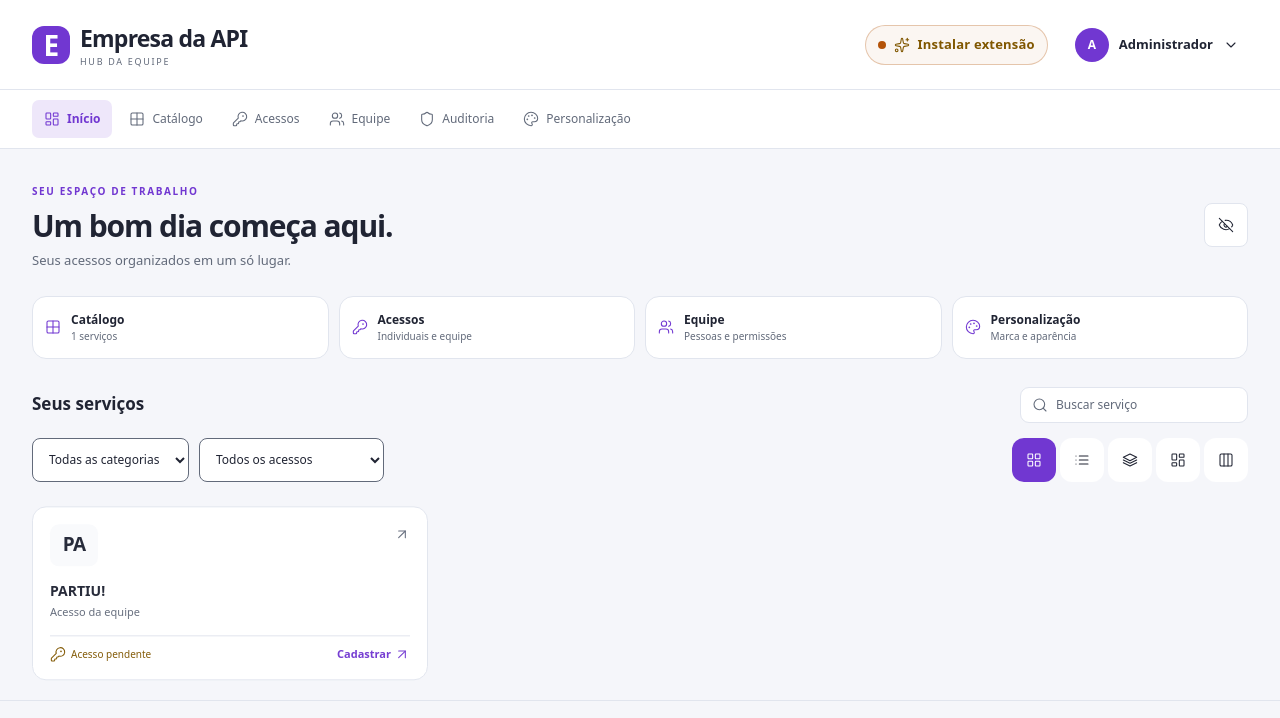
Test: Workspace interaction boundaries › keeps the individual dialog focused and restores focus after Escape
The image size is (1280, 718).
Click the button with aria-label "Cadastrar PARTIU!" at (74, 545), box [32,506,428,680]
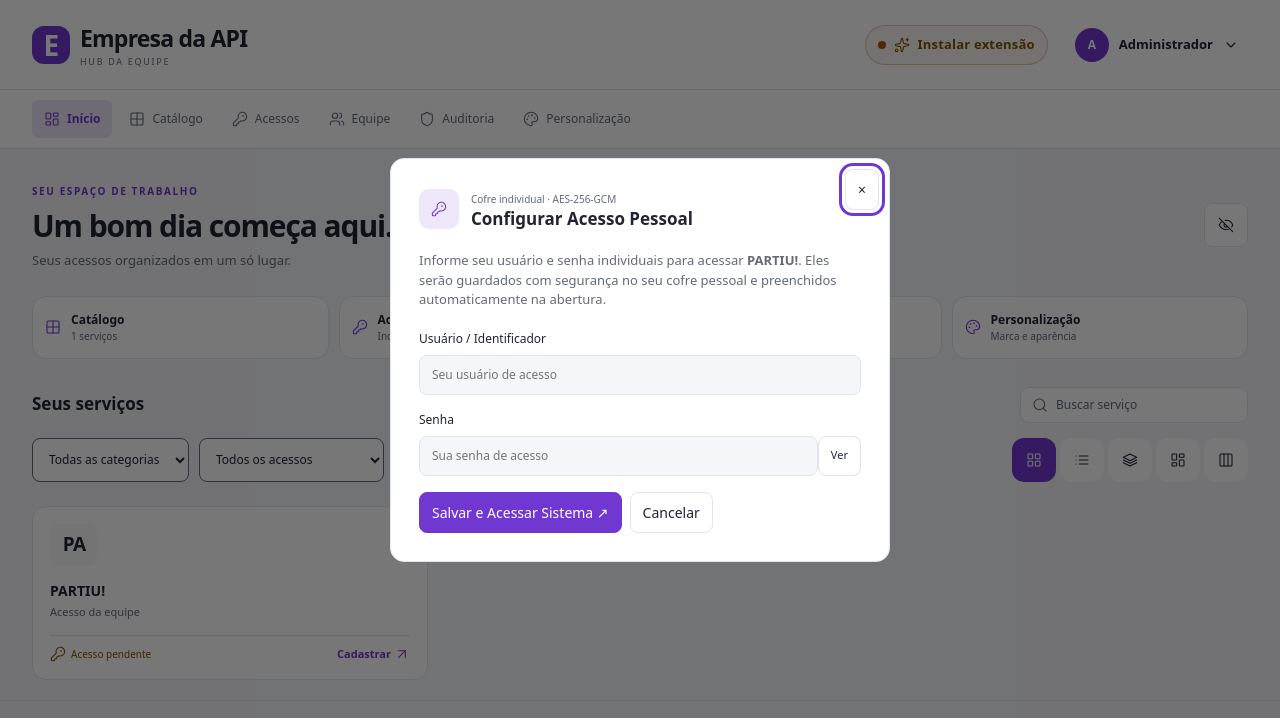
Press Shift+Tab
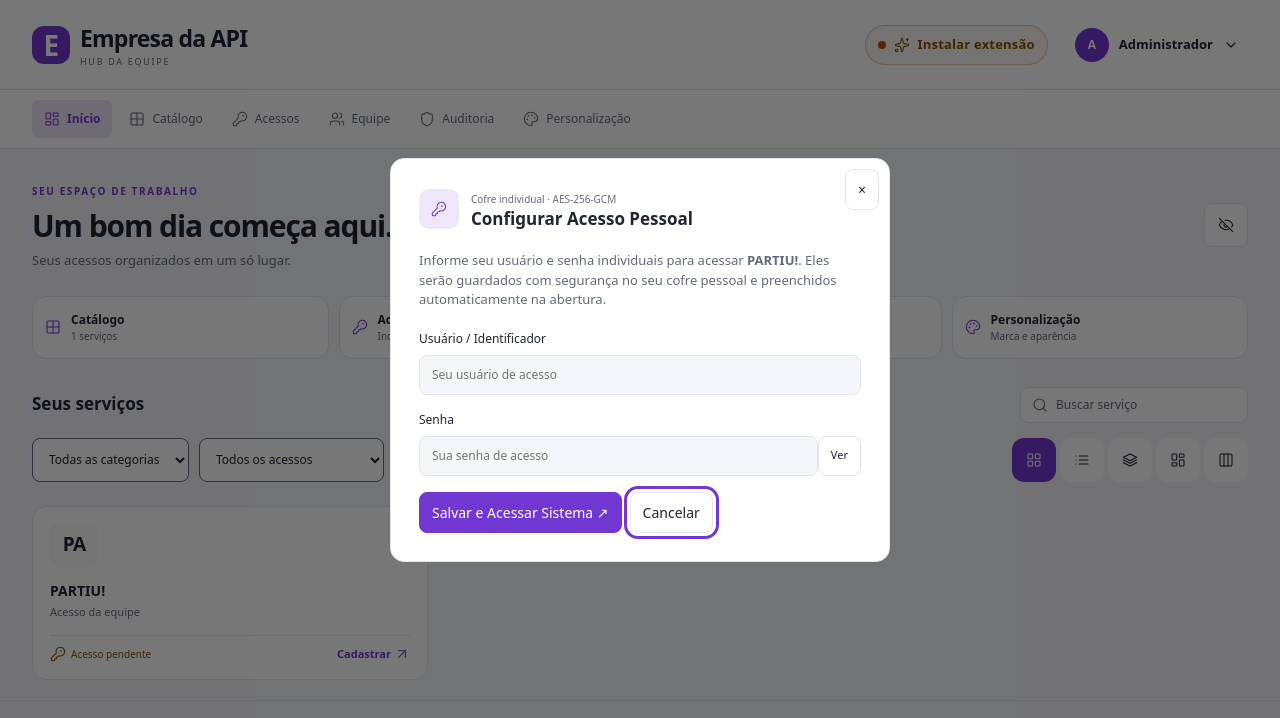
Press Escape
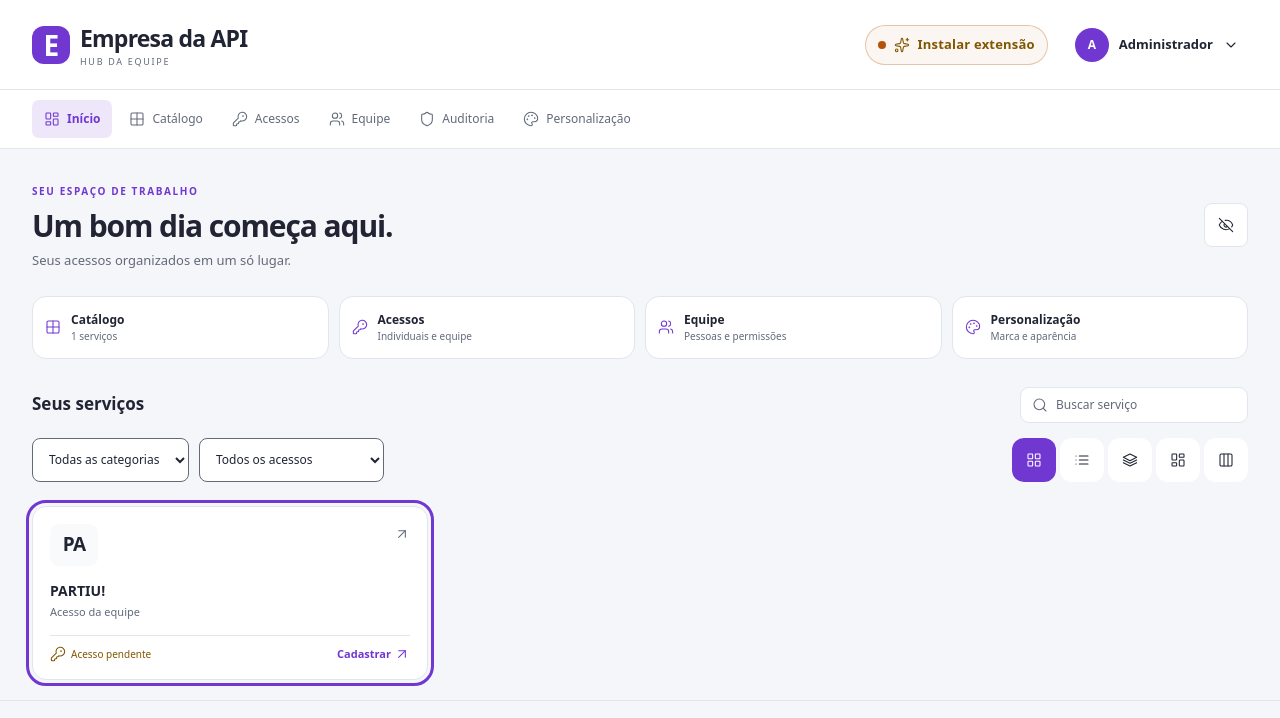
Now the dialog is gone
